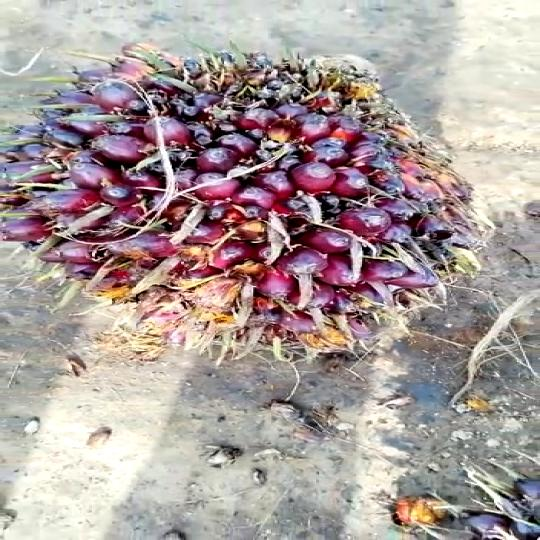masak: (0, 40, 497, 355)
